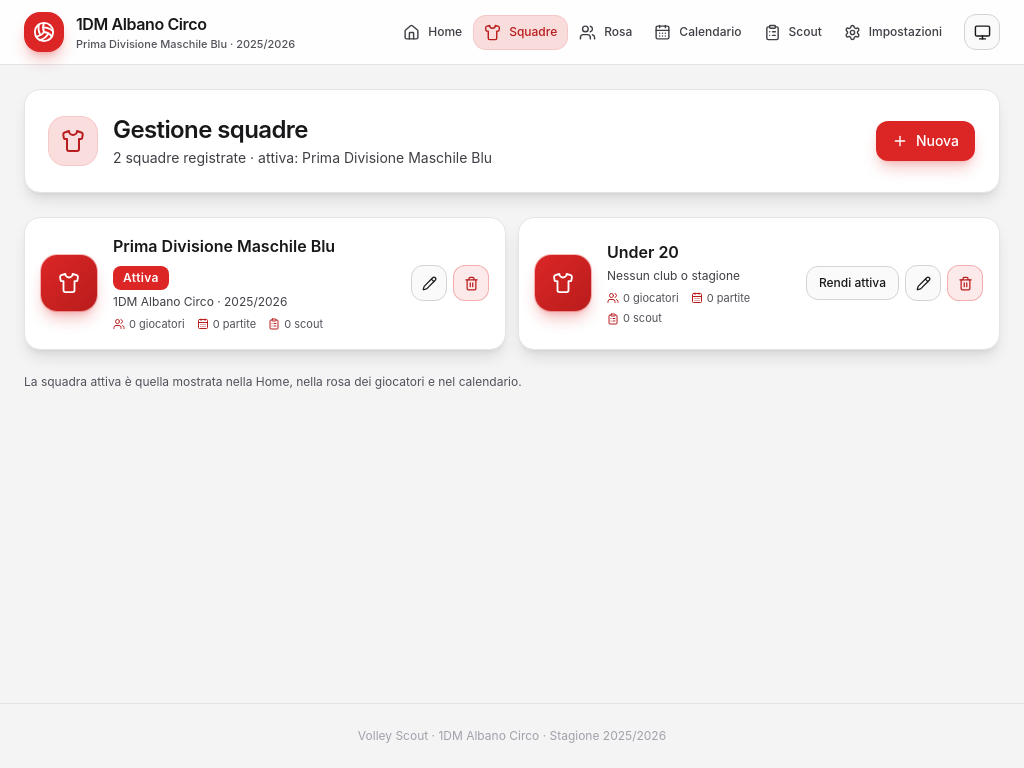
Test: squadre › rende attiva un'altra squadra
Click the button "Rendi attiva" at coordinates (852, 283), box [806,266,899,300]
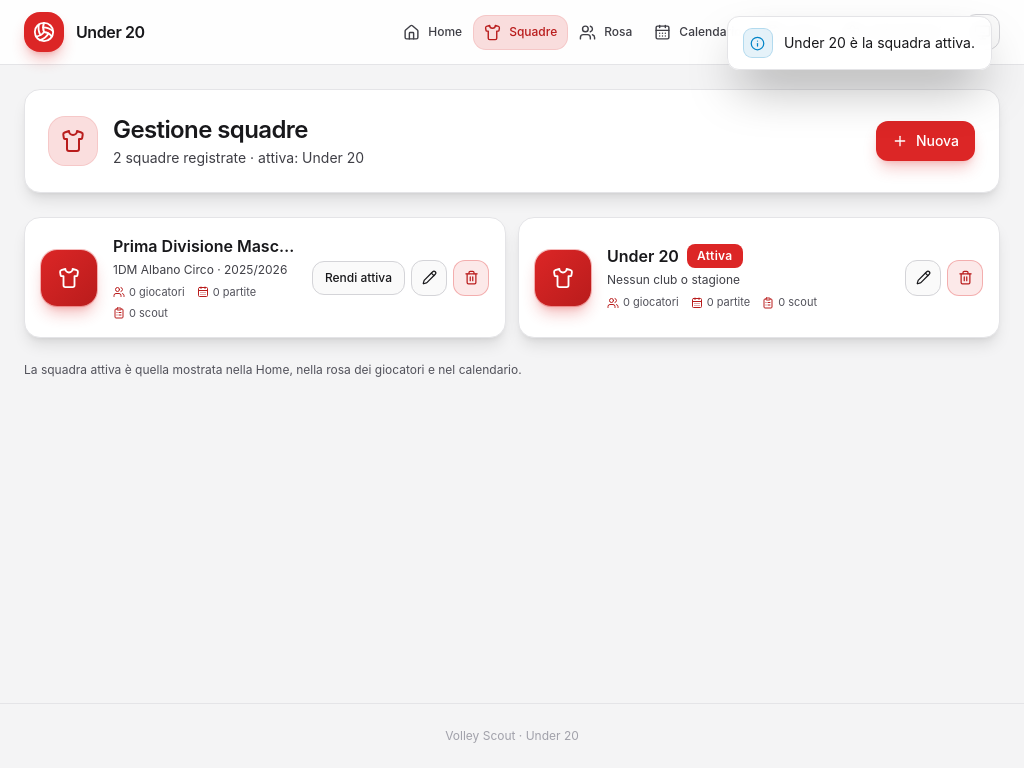
Now the text "2 squadre registrate · attiva: Under 20" is shown, box [113,148,364,168]
